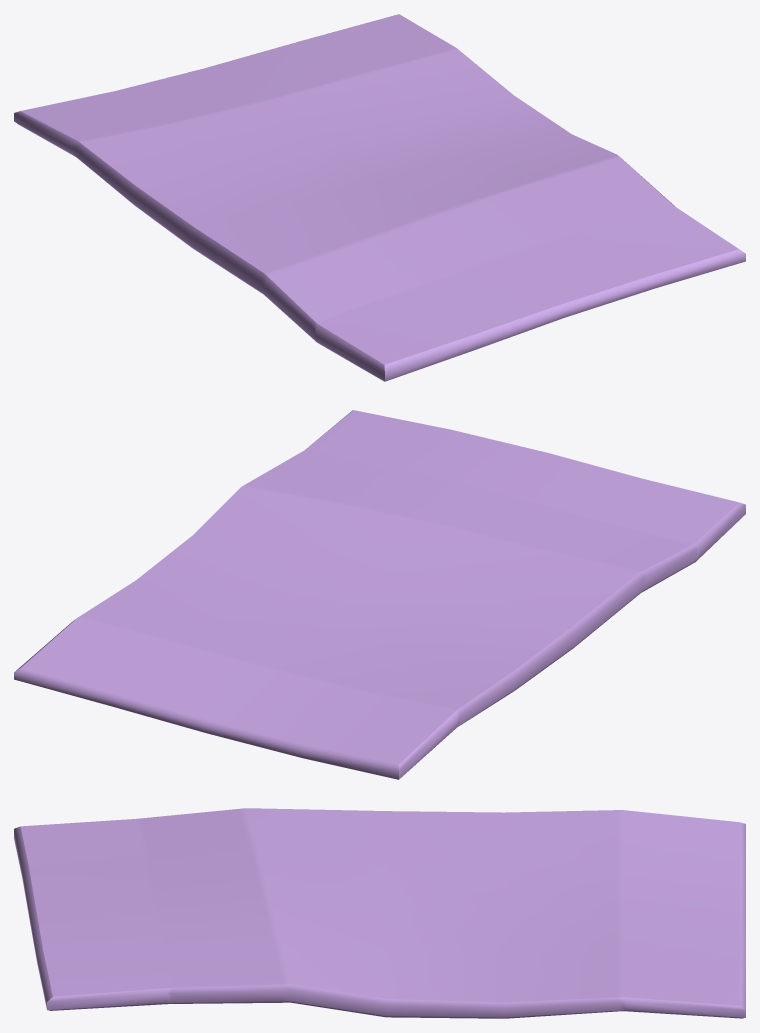
File: Friday_Letter_V3.fbx
3 renders of one model, top to bottom at view 1: azimuth 30°, elevation 25°; view 2: azimuth 150°, elevation 25°; view 3: azimuth 270°, elevation 25°, orthographic.
Visible parts, largest first — view 1: Letter; view 2: Letter; view 3: Letter.
Part boxes in pixels (bbox=[...]): Letter: bbox=[14, 14, 745, 381]; Letter: bbox=[14, 410, 745, 779]; Letter: bbox=[14, 808, 745, 1018].
Size of the model in its own units: 35.51 by 3.58 by 56.72.
